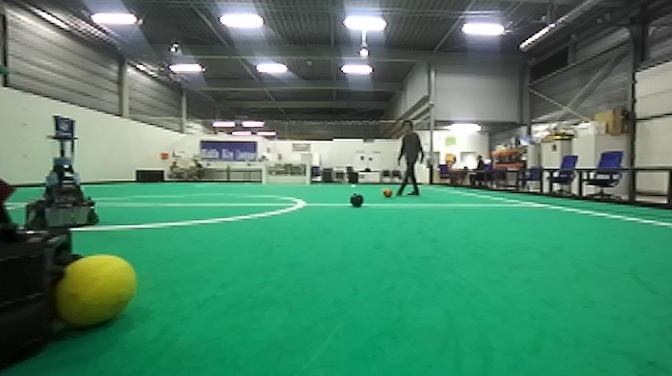ball: (56, 249, 139, 336), (346, 190, 367, 210), (380, 185, 395, 199)
goal: (261, 165, 310, 187)
goalpost: (305, 163, 312, 187), (261, 162, 266, 185)
human: (391, 118, 427, 202)
robot: (1, 172, 77, 368), (21, 109, 104, 229)
